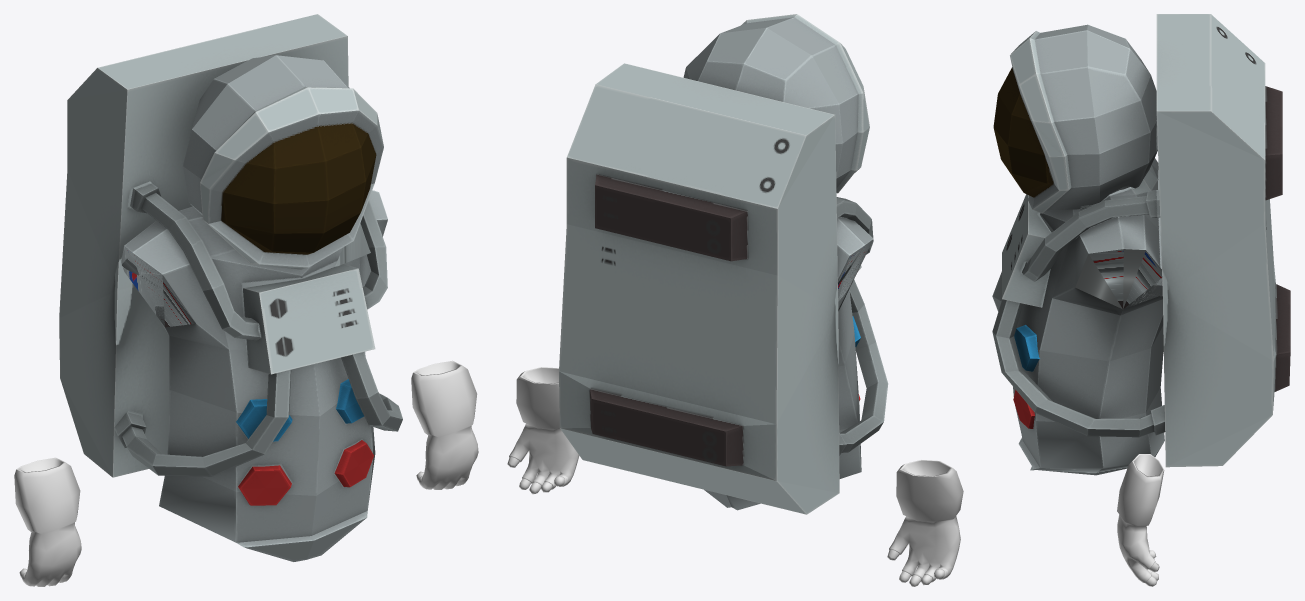
The model's file is PerseVRance_Astronaut.fbx.
3 renders of one model, left to right at view 1: azimuth 30°, elevation 25°; view 2: azimuth 150°, elevation 25°; view 3: azimuth 270°, elevation 25°, orthographic. The views are drawn at different scales.
Visible parts, largest first — view 1: Astronaut_Body, Astronaut_Head, Astronaut_Left_Glove, Astronaut_Right_Glove; view 2: Astronaut_Body, Astronaut_Head, Astronaut_Right_Glove, Astronaut_Left_Glove; view 3: Astronaut_Body, Astronaut_Head, Astronaut_Left_Glove.
Boxes of the visible parts, <box> form: Astronaut_Body: <box>59,14,402,561</box>; Astronaut_Head: <box>182,55,383,269</box>; Astronaut_Left_Glove: <box>411,360,478,489</box>; Astronaut_Right_Glove: <box>14,457,81,586</box>; Astronaut_Body: <box>559,63,888,514</box>; Astronaut_Head: <box>683,14,869,193</box>; Astronaut_Right_Glove: <box>887,460,963,586</box>; Astronaut_Left_Glove: <box>507,367,579,494</box>; Astronaut_Body: <box>992,14,1290,475</box>; Astronaut_Head: <box>993,24,1157,213</box>; Astronaut_Left_Glove: <box>1117,454,1164,586</box>.
Size of the model in its own units: 234 by 247 by 145.
Materials: 5 (1 with a texture image).
